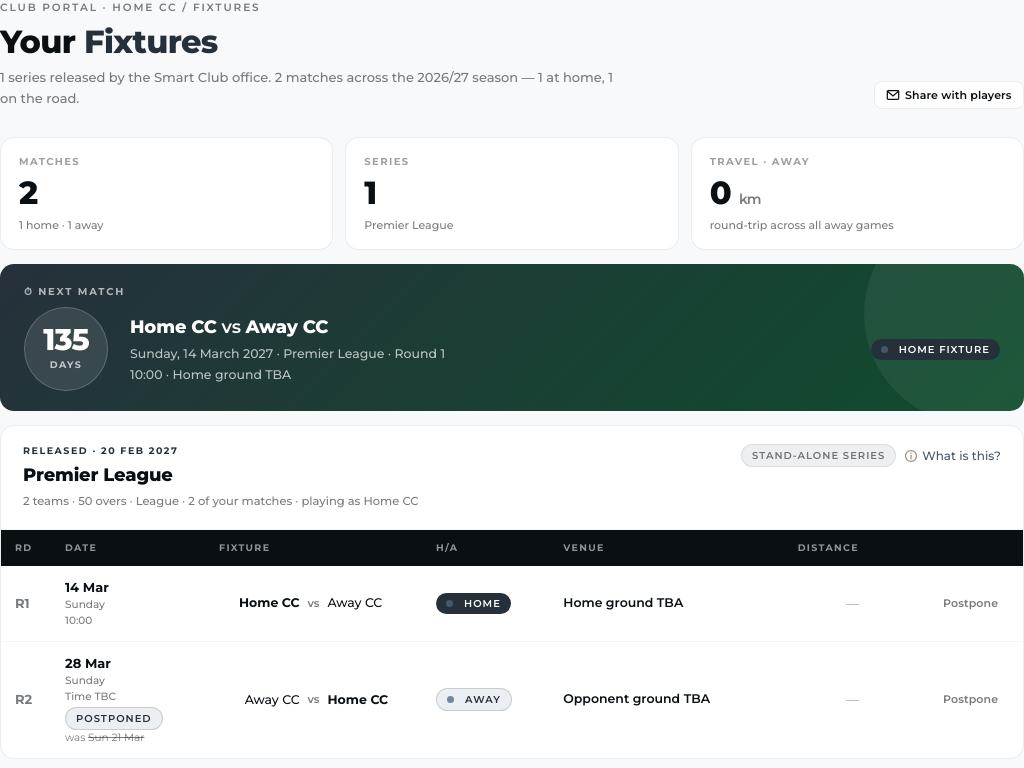
Test: ClubFixturesView — postponement wiring › offers Postpone per upcoming fixture and opens the request modal
Click the 1st button "Postpone": (970, 603) [932,592,1009,615]
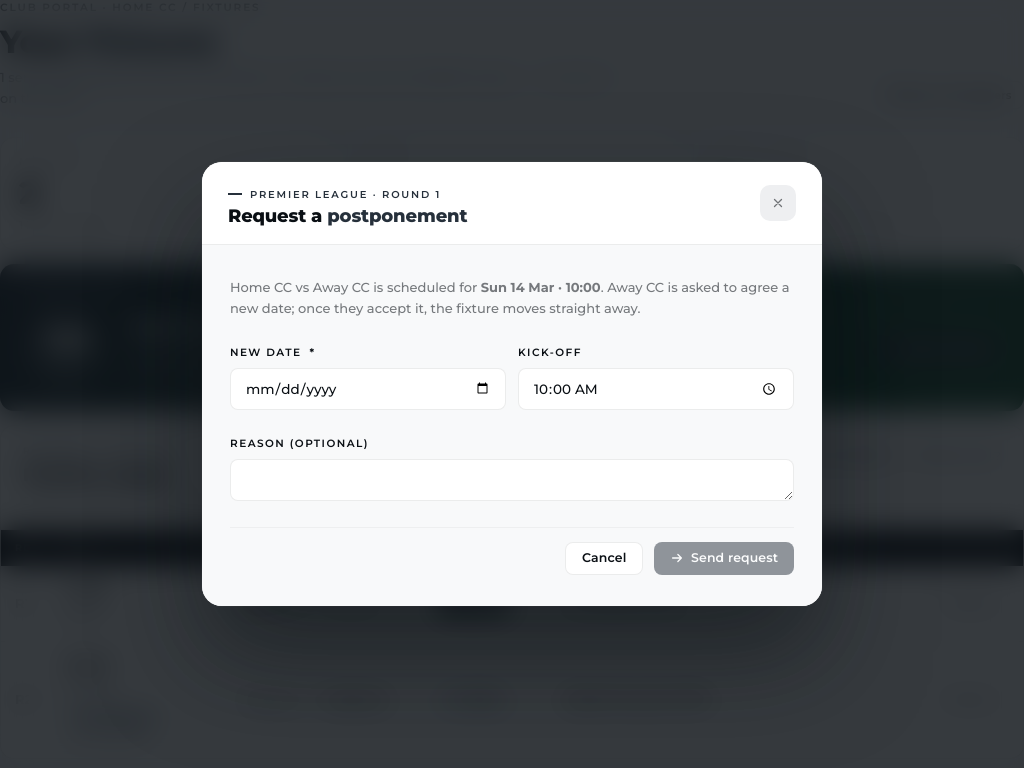
Now the date field named "New date" is shown, box [230,368,506,410]
Now the text "Away CC is asked to agree" is shown, box [230,277,794,319]
